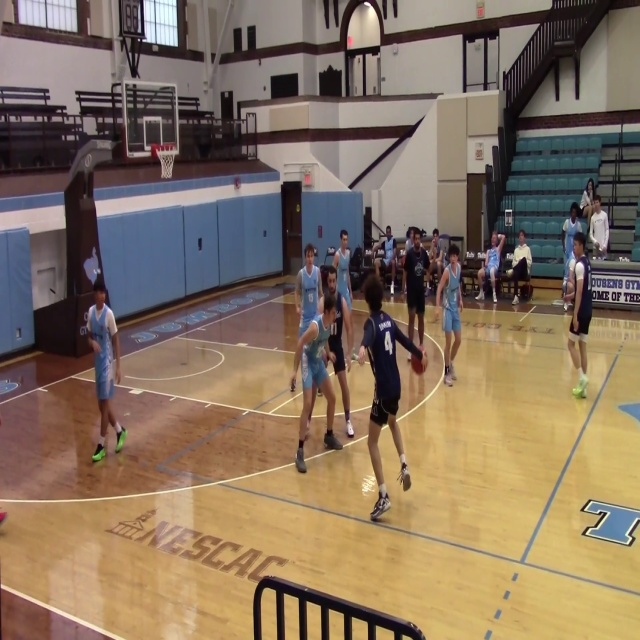Basketball: (410, 350, 428, 374), (563, 281, 575, 300)
